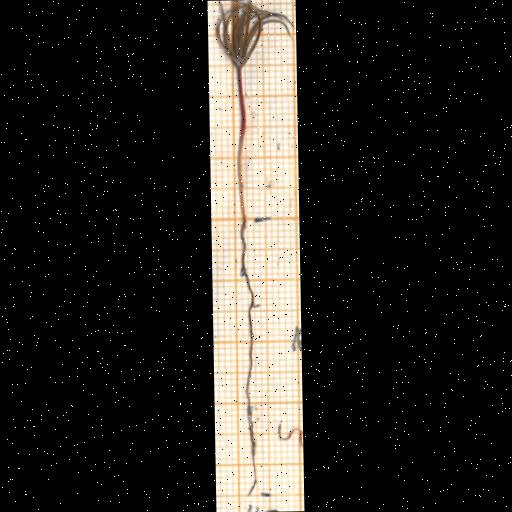flowerPinus: (215, 0, 293, 69)
rootPinus: (241, 222, 256, 494)
stemPinus: (236, 67, 248, 221)
